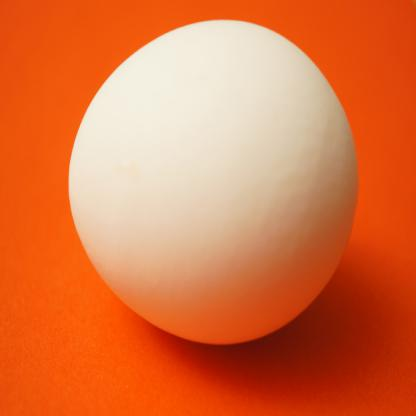Egg: (67, 18, 358, 348)
